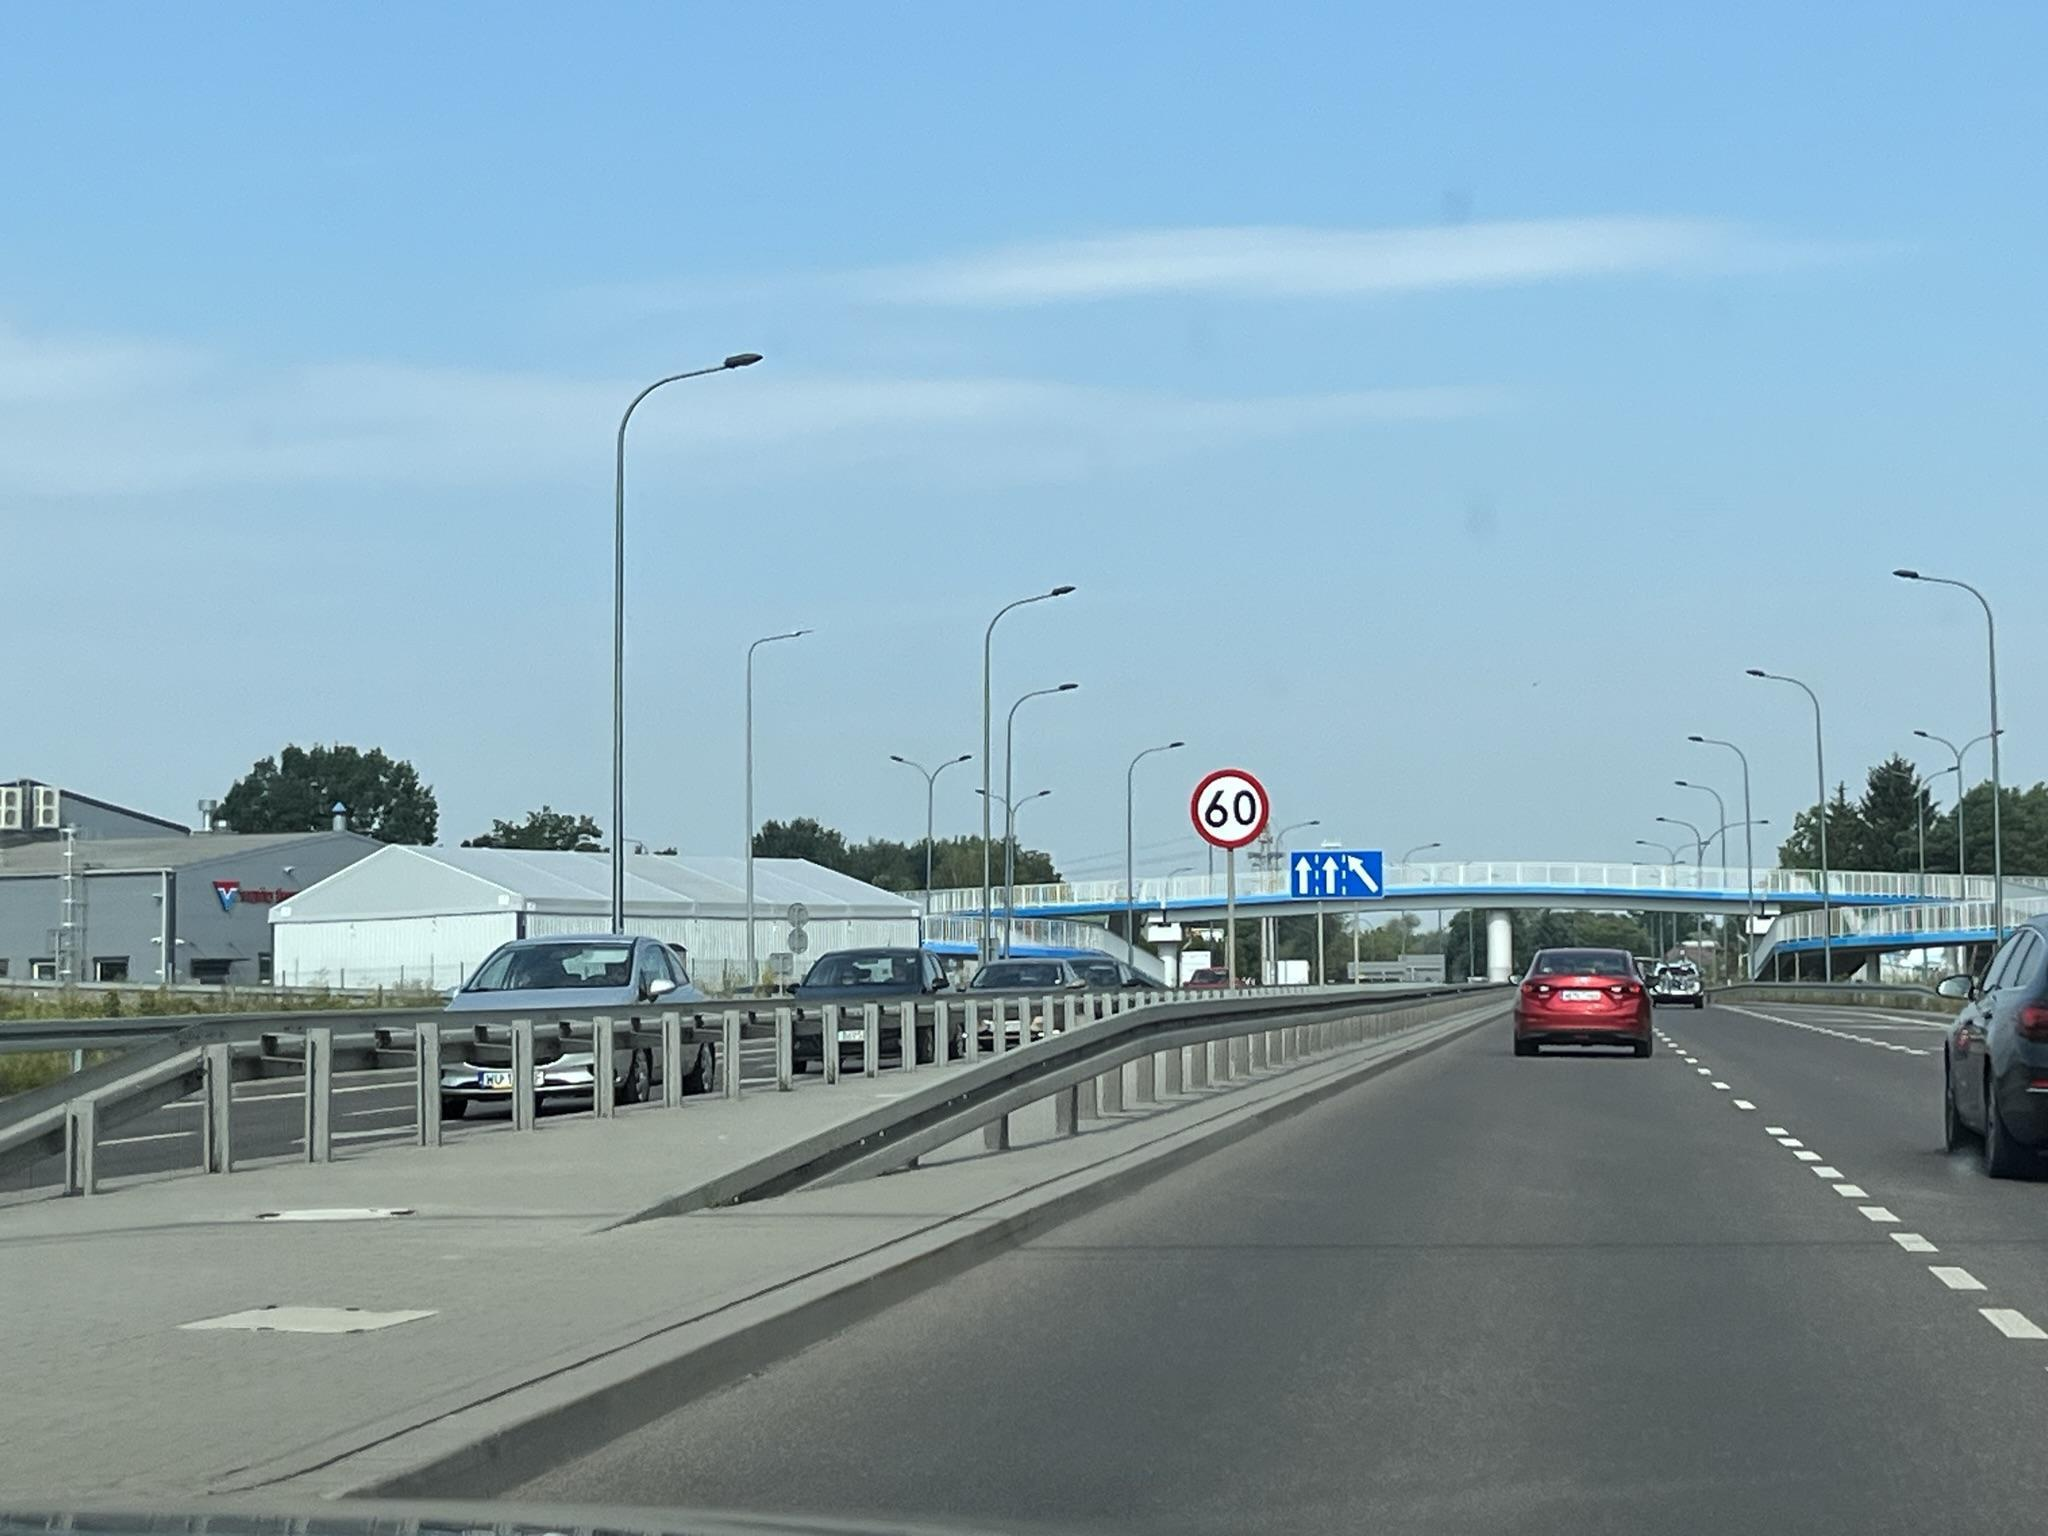other: (1288, 849, 1385, 902)
prohibitory: (1188, 768, 1269, 850)
